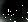person: (20, 7, 26, 16)
